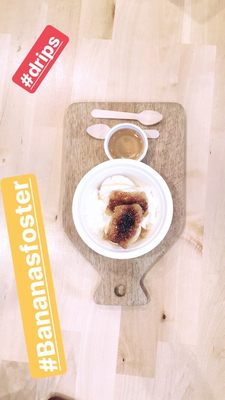pizza: (72, 160, 173, 262), (103, 123, 149, 162)
